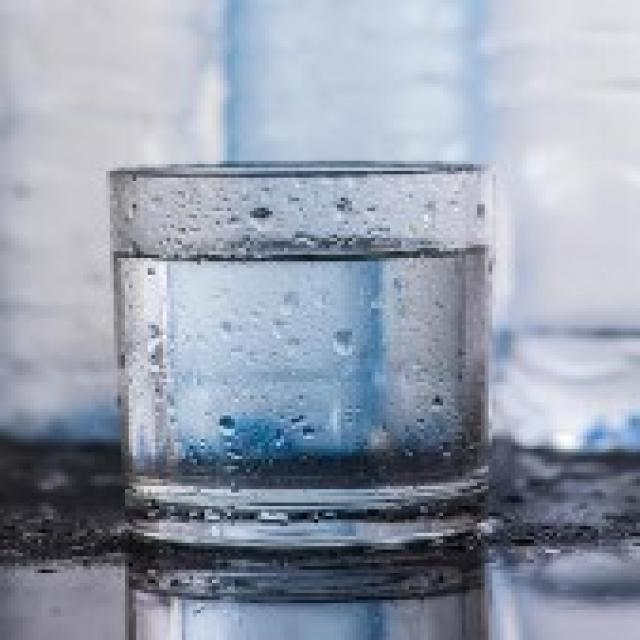electronic: (102, 159, 498, 555)
